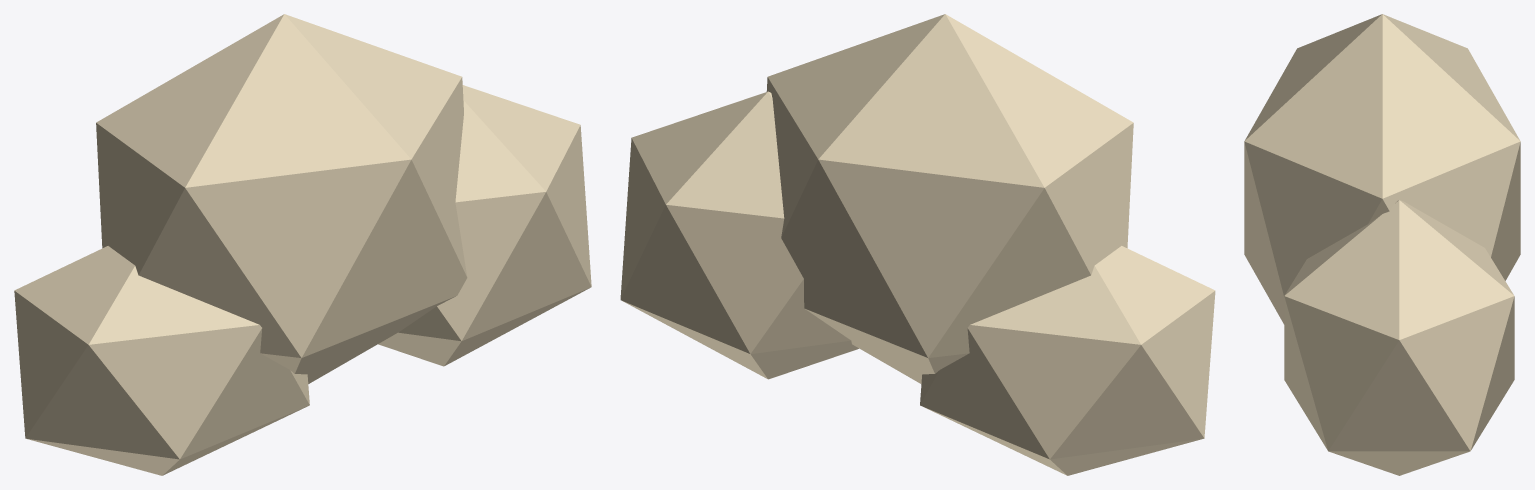
Rendered from hsc3_smoke_cluster_unit.glb.
The picture shows the model from 3 angles, left to right: view 1: azimuth 30°, elevation 25°; view 2: azimuth 150°, elevation 25°; view 3: azimuth 270°, elevation 25°; orthographic projection. The views are drawn at different scales.
Visible parts, largest first — view 1: hsc3_smoke_cluster_unit__hsc3-cream-enamel; view 2: hsc3_smoke_cluster_unit__hsc3-cream-enamel; view 3: hsc3_smoke_cluster_unit__hsc3-cream-enamel.
Part boxes in pixels (left/top/right/bottom): hsc3_smoke_cluster_unit__hsc3-cream-enamel: left=14, top=14, right=591, bottom=475; hsc3_smoke_cluster_unit__hsc3-cream-enamel: left=620, top=14, right=1215, bottom=475; hsc3_smoke_cluster_unit__hsc3-cream-enamel: left=1244, top=14, right=1520, bottom=475.
Bounding box in the file's own units: 1.84 × 1.35 × 0.8166.
